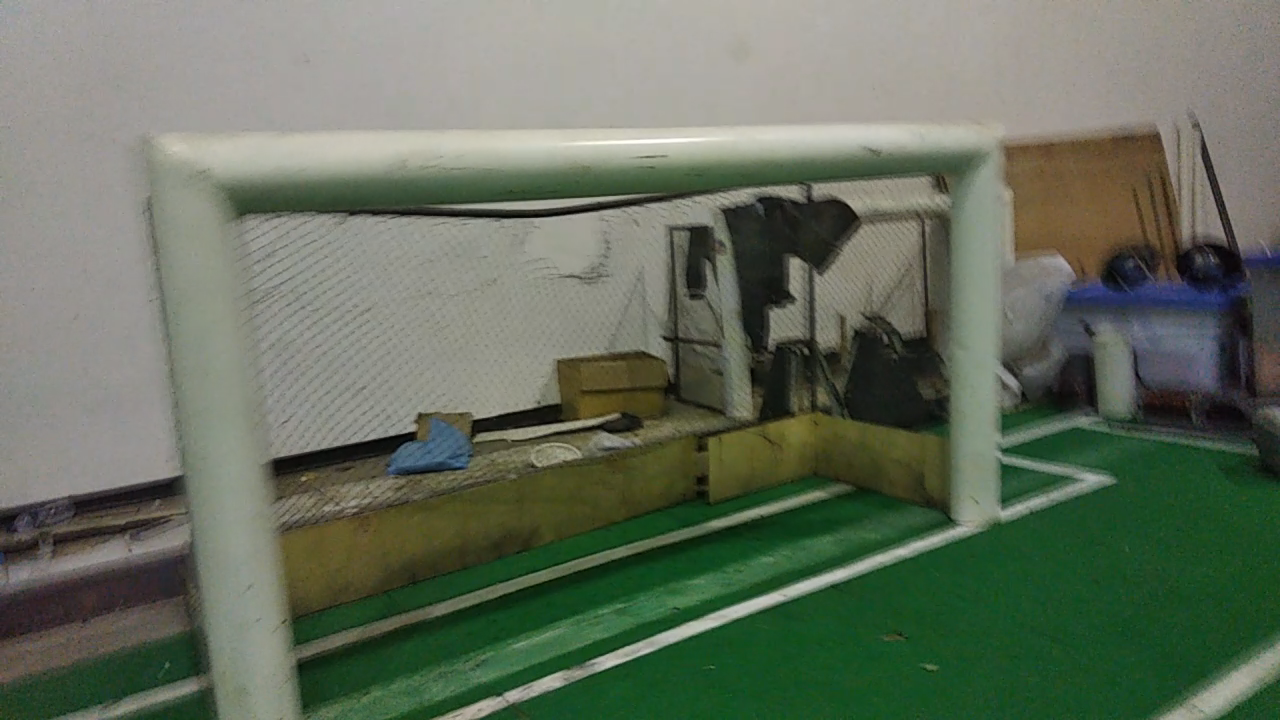gawang: (128, 109, 1022, 719)
